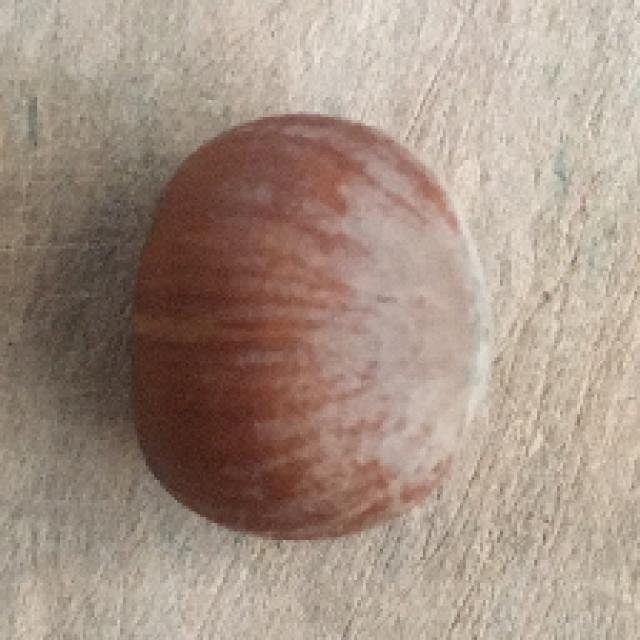qualityHazelnut: (127, 108, 499, 546)
